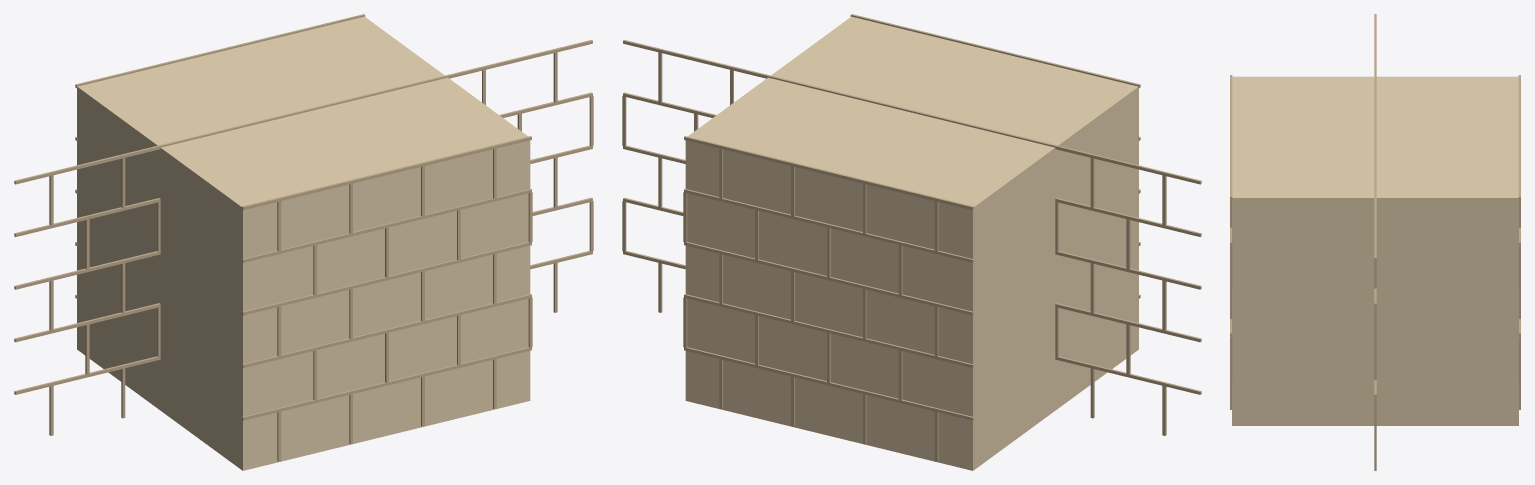
Rendered from SD_Platform.fbx.
3 renders of one model, left to right at view 1: azimuth 30°, elevation 25°; view 2: azimuth 150°, elevation 25°; view 3: azimuth 270°, elevation 25°, orthographic. The views are drawn at different scales.
Visible parts, largest first — view 1: SD_Platform; view 2: SD_Platform; view 3: SD_Platform.
Part boxes in pixels (bbox=[...]): SD_Platform: bbox=[14, 14, 593, 470]; SD_Platform: bbox=[622, 14, 1201, 470]; SD_Platform: bbox=[1230, 14, 1520, 470].
Size of the model in its own units: 8.05 by 3.52 by 4.05.
